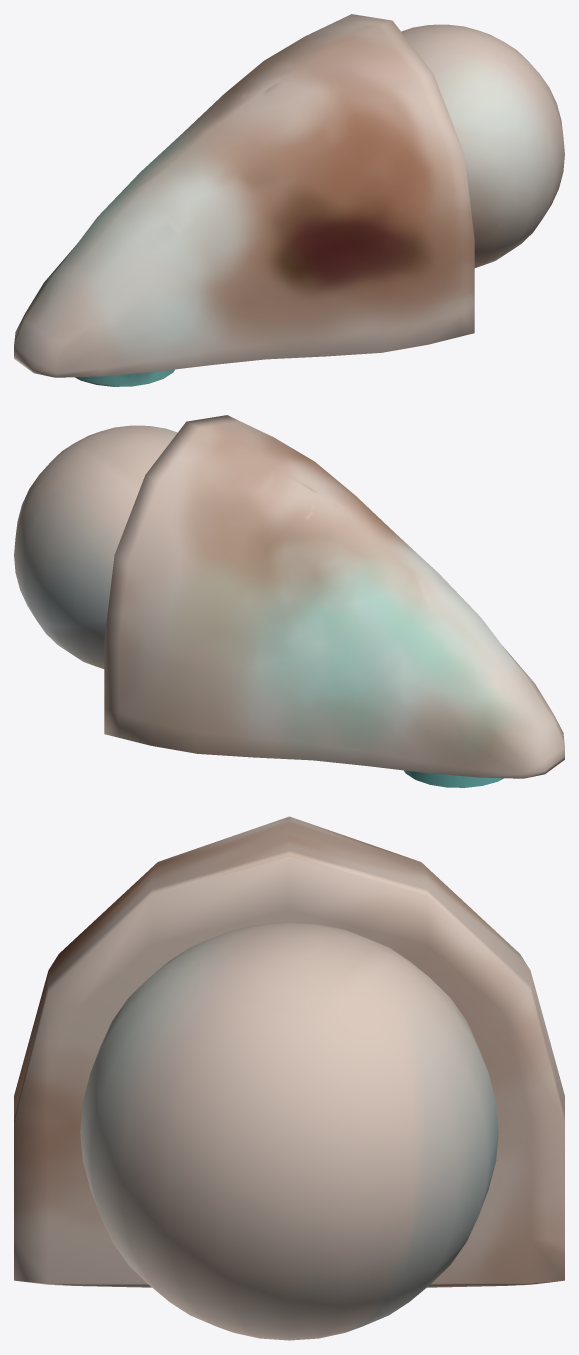
File: Beppy_Arm_Dx (1).fbx
The picture shows the model from 3 angles, top to bottom: view 1: azimuth 30°, elevation 25°; view 2: azimuth 150°, elevation 25°; view 3: azimuth 270°, elevation 25°; orthographic projection. The views are drawn at different scales.
Parts seen in each view (by area): view 1: Braccio_Dx; view 2: Braccio_Dx; view 3: Braccio_Dx.
Part boxes in pixels (box(x1,y1,x2,y2)): Braccio_Dx: box(14, 14, 564, 386); Braccio_Dx: box(14, 415, 564, 787); Braccio_Dx: box(14, 816, 564, 1340).
Bounding box in the file's own units: 17.52 × 8.97 × 9.48.
